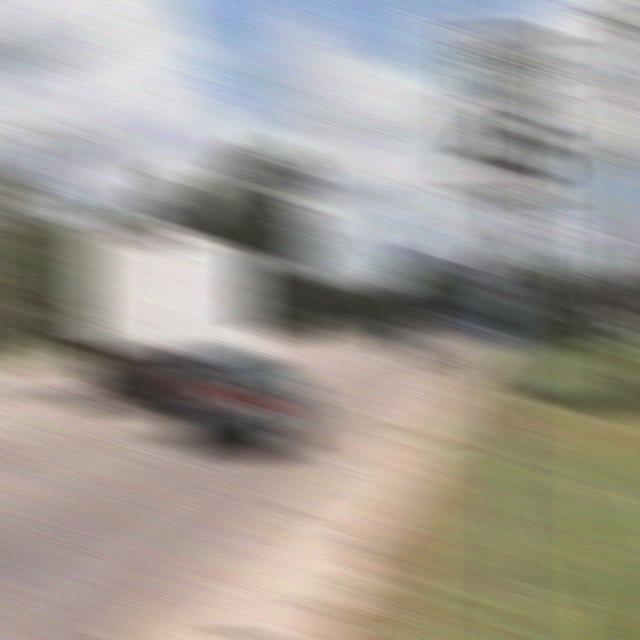speedLimit45: (451, 40, 574, 204)
